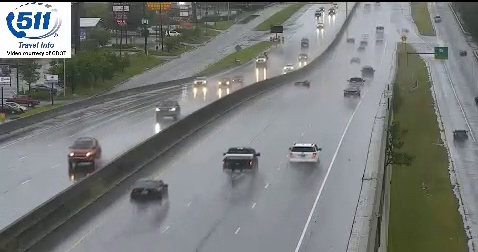car: (130, 179, 167, 203), (223, 147, 258, 172), (289, 143, 320, 164)
